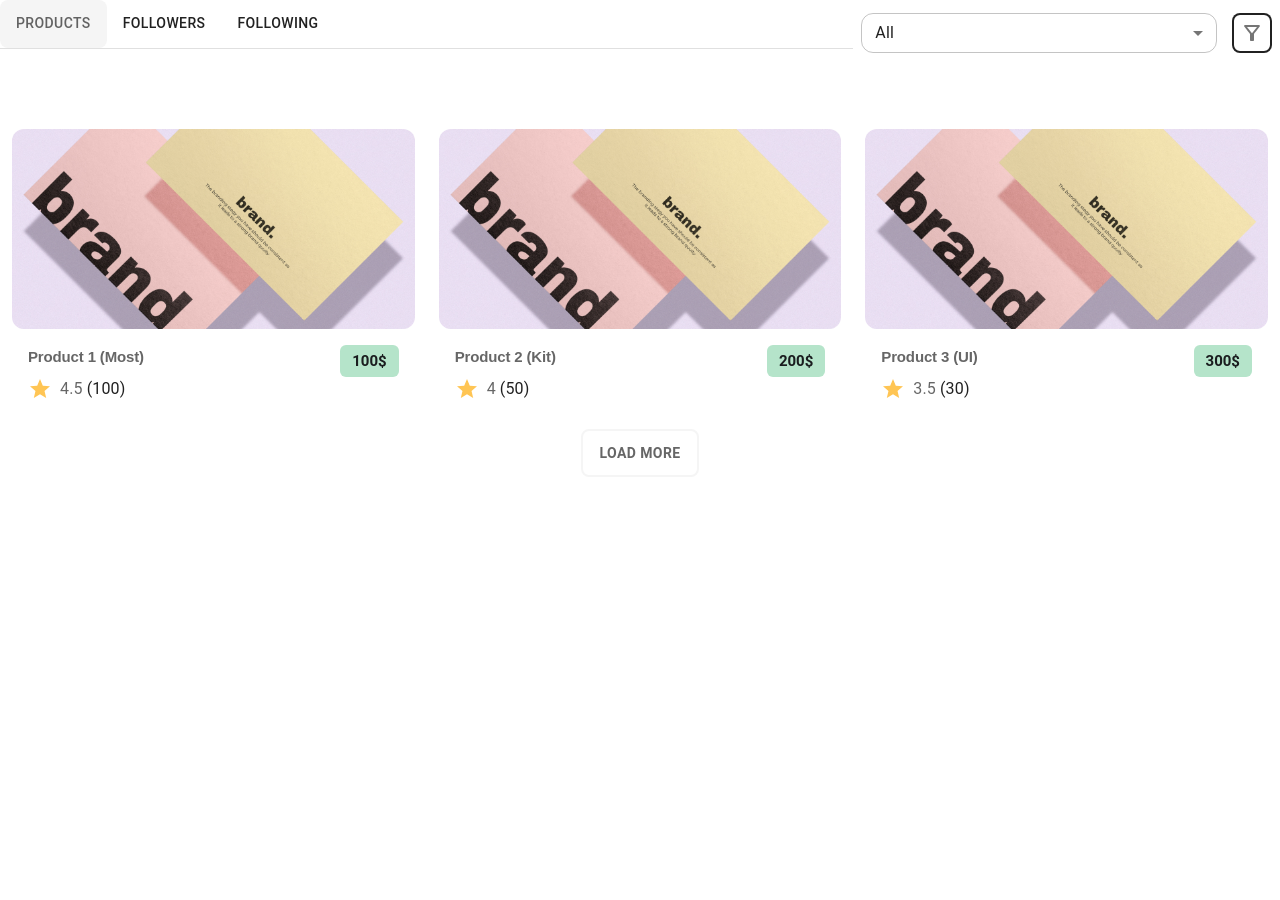
Test: ShopContent Test › filter products category when selected checkbox filter product modal correctly
Step 1. Click the button with test id "ProductFilter_IconButton" → (1252, 32), box [1232,12,1272,52]
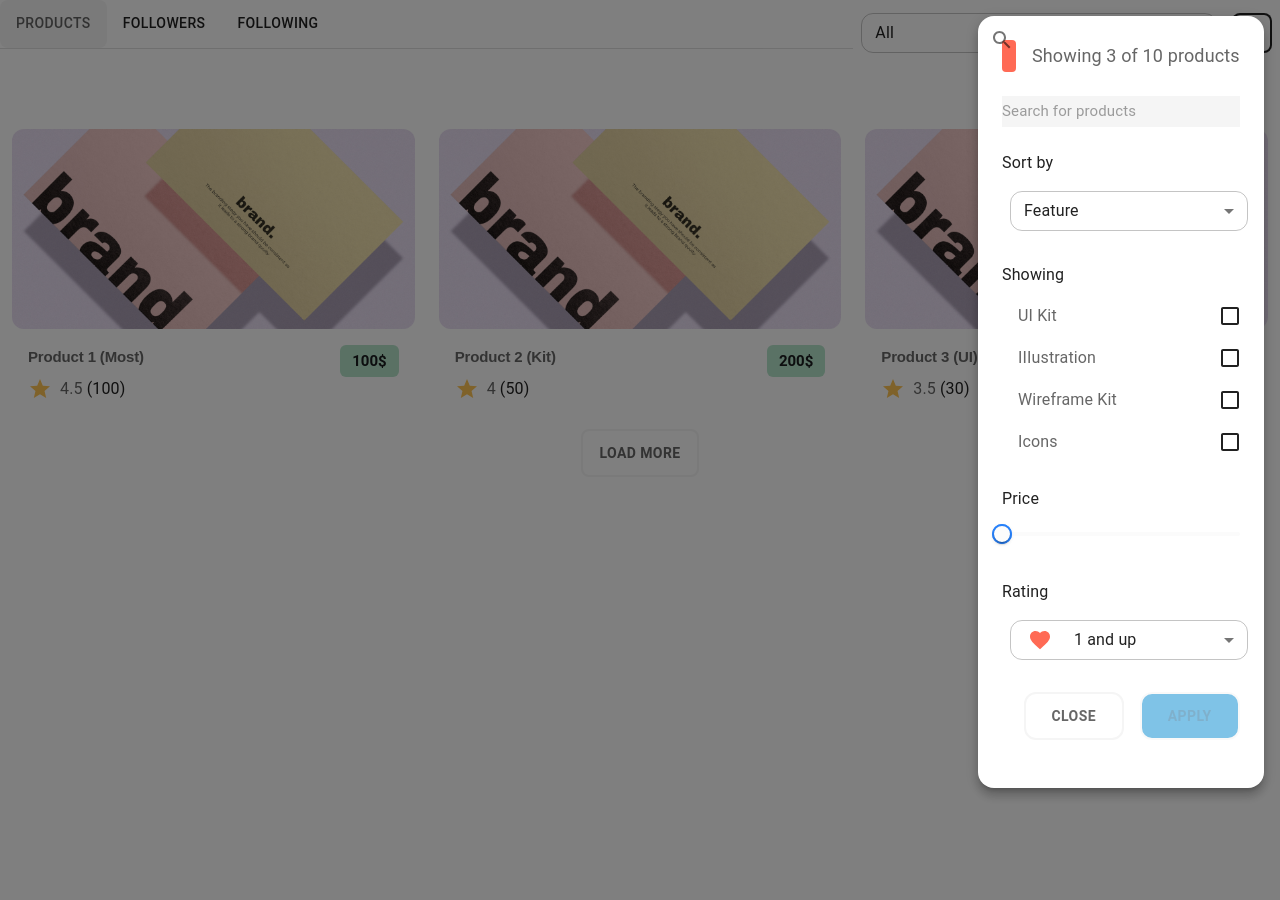
Step 2. Click the text "UI Kit" → (1037, 316), box [1018,304,1057,328]
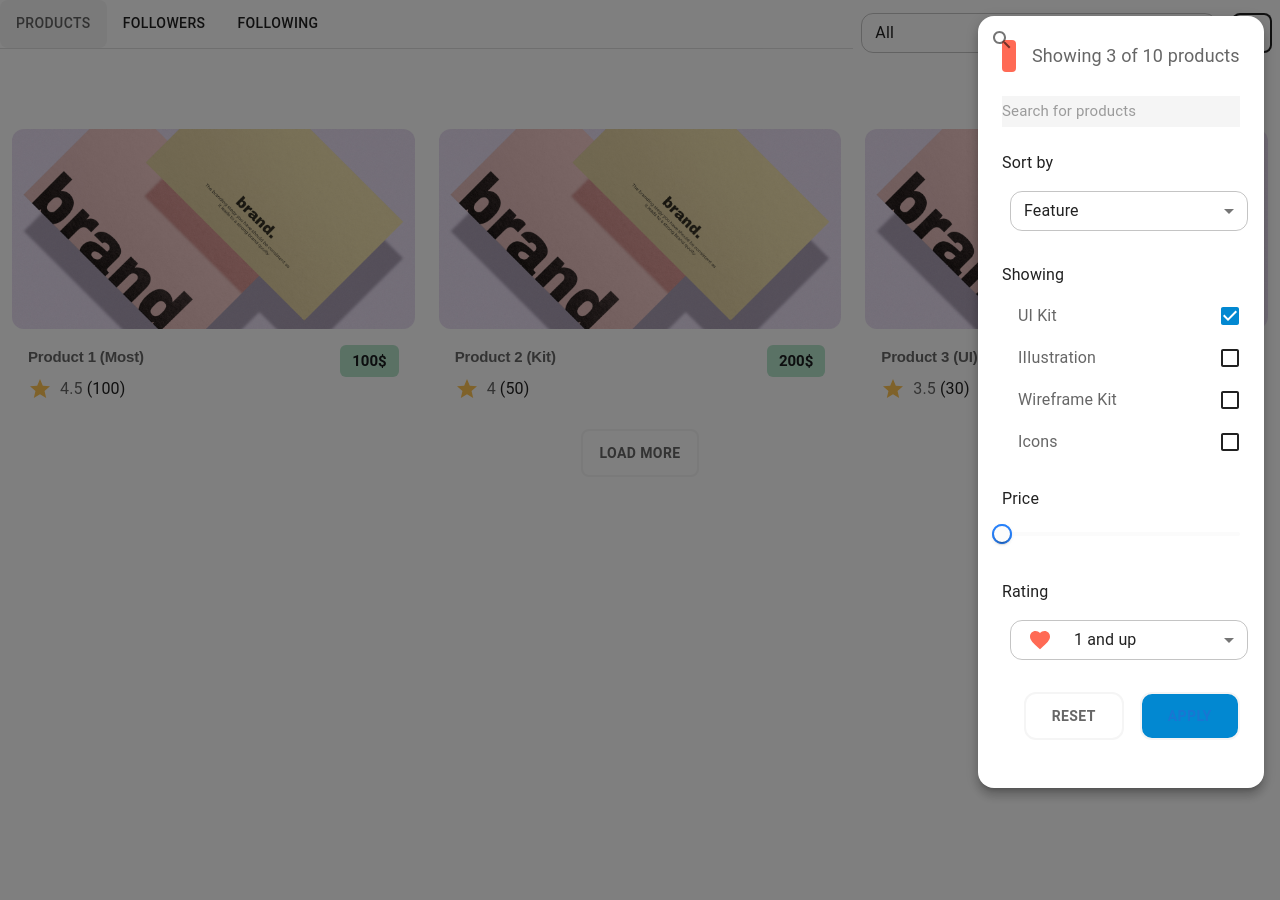
Step 3. Click the button "Apply" → (1190, 716), box [1140,692,1240,740]
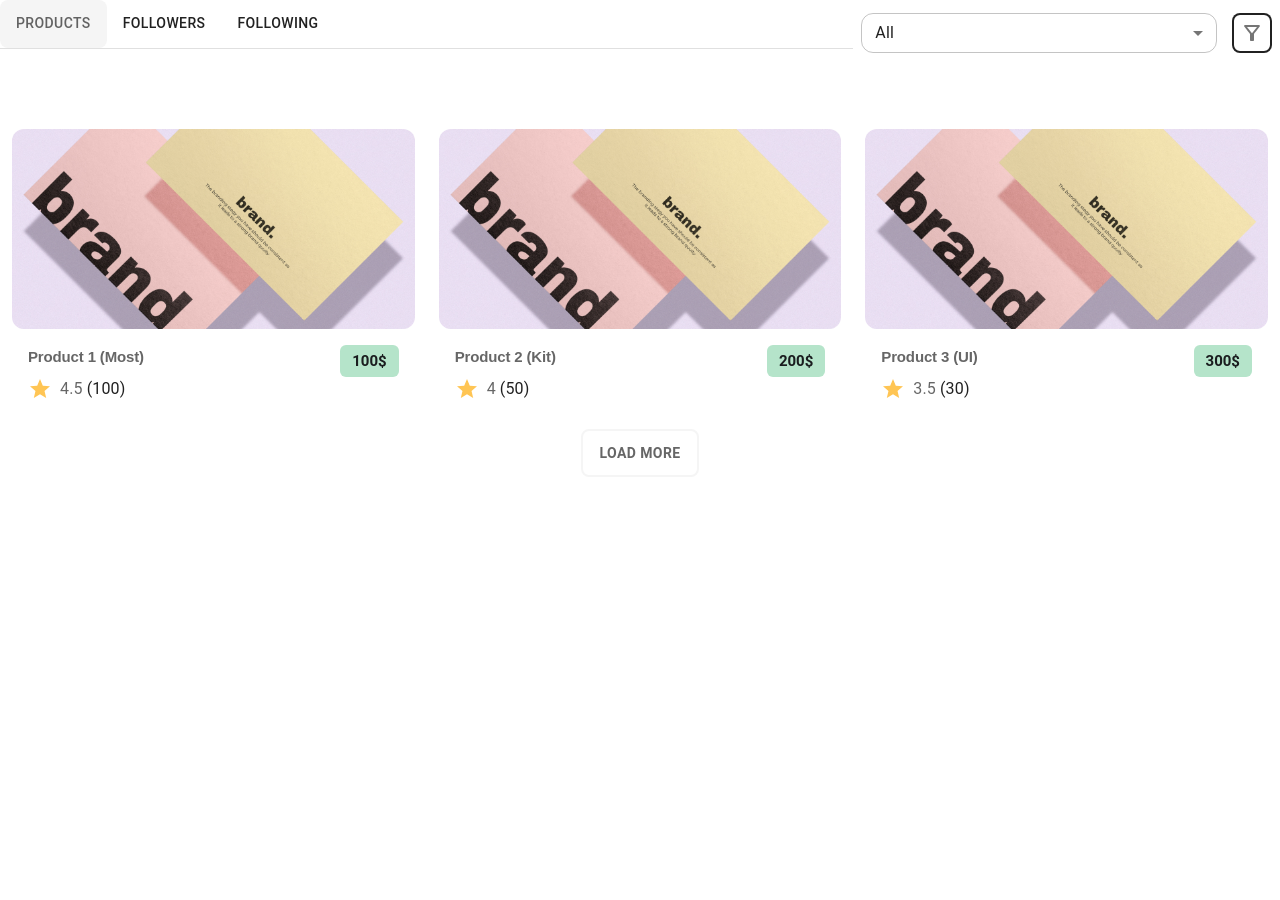
expect the element with test id "ProductFilter_Popover" is gone: met
